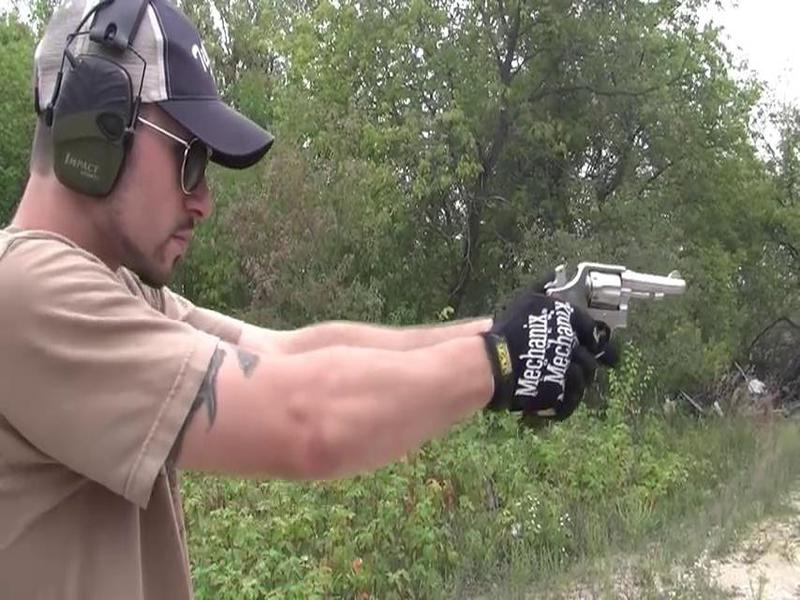Revolver: (537, 250, 697, 360)
